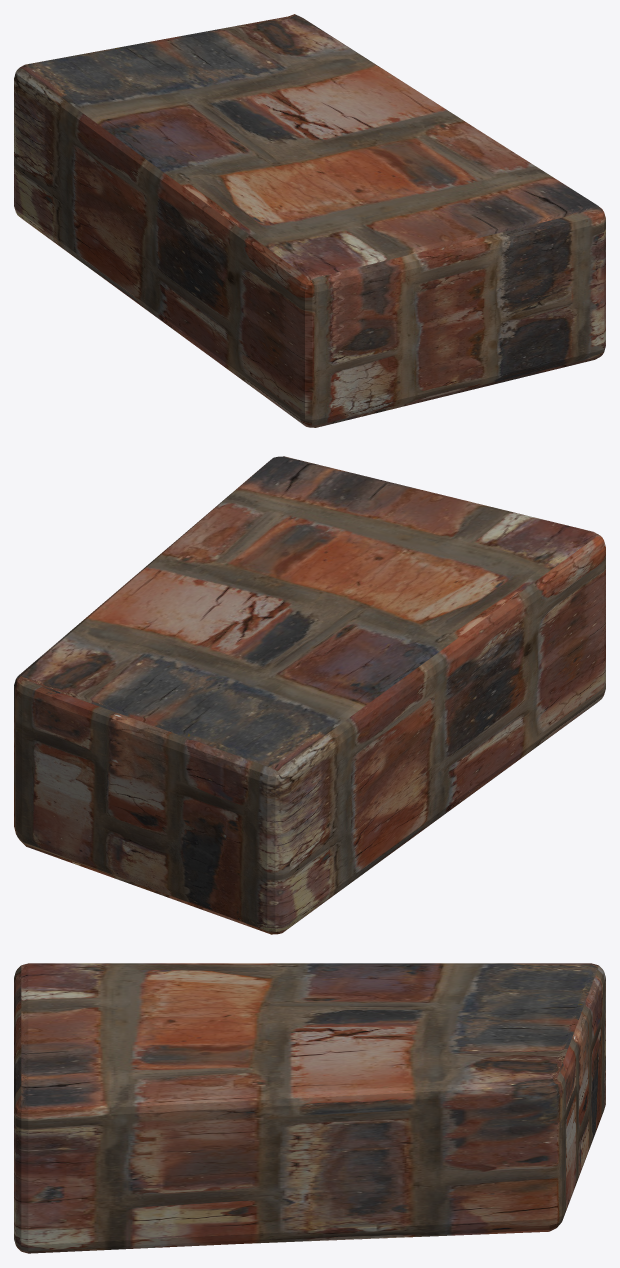
The model's file is masonry-chunk.glb.
The picture shows the model from 3 angles, top to bottom: view 1: azimuth 30°, elevation 25°; view 2: azimuth 150°, elevation 25°; view 3: azimuth 270°, elevation 25°; orthographic projection. The views are drawn at different scales.
Visible parts, largest first — view 1: Masonry weathered brick; view 2: Masonry weathered brick; view 3: Masonry weathered brick.
Part boxes in pixels (box(x1,y1,x2,y2)): Masonry weathered brick: box(14, 14, 605, 427); Masonry weathered brick: box(14, 456, 605, 934); Masonry weathered brick: box(14, 963, 605, 1253).
Bounding box in the file's own units: 0.58 × 0.2878 × 0.985.
Materials: 1 (1 with a texture image).
